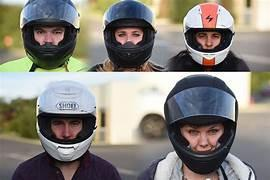Helmet: (164, 74, 237, 174), (36, 81, 96, 162), (20, 0, 79, 68), (104, 1, 154, 67), (183, 4, 235, 67)
